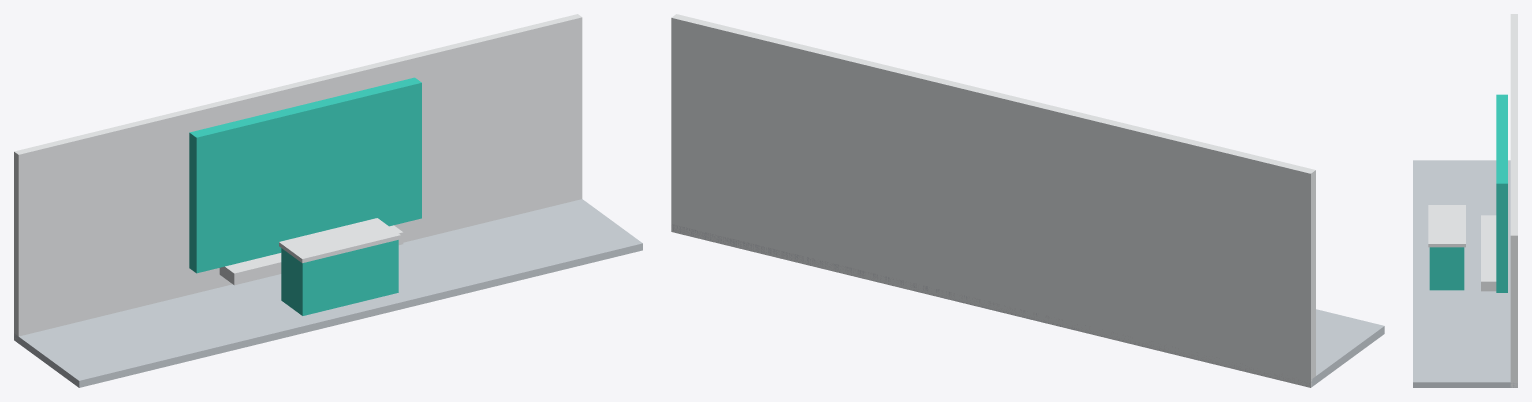
3 views of the same model, side by side, from view 1: azimuth 30°, elevation 25°; view 2: azimuth 150°, elevation 25°; view 3: azimuth 270°, elevation 25° (orthographic). The views are drawn at different scales.
Visible parts, largest first — view 1: Exhibition Booth Concept; view 2: Exhibition Booth Concept; view 3: Exhibition Booth Concept.
Part boxes in pixels (<box>): Exhibition Booth Concept: <box>14,14,642,387</box>; Exhibition Booth Concept: <box>671,14,1384,387</box>; Exhibition Booth Concept: <box>1413,14,1517,387</box>.
Bounding box in the file's own units: 10 × 3.2 × 2.
